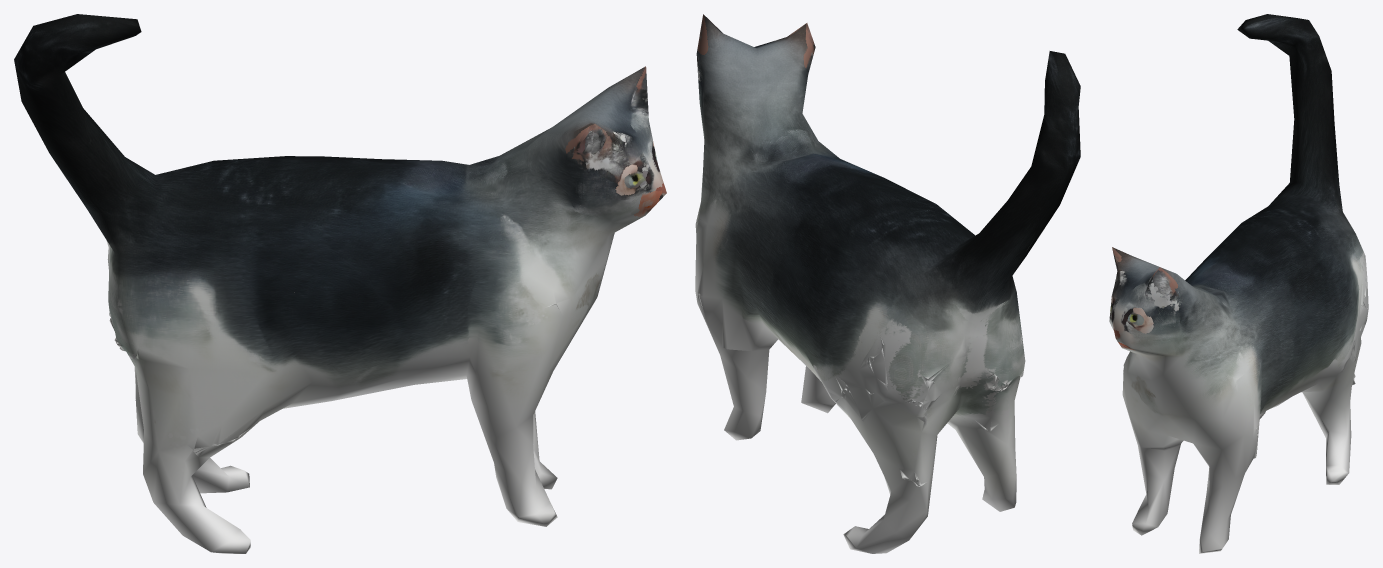
File: cat_black_single_1500.glb
3 views of the same model, side by side, from view 1: azimuth 30°, elevation 25°; view 2: azimuth 150°, elevation 25°; view 3: azimuth 270°, elevation 25° (orthographic). The views are drawn at different scales.
Size of the model in its own units: 0.845 by 0.8527 by 0.4973.
Materials: 1 (1 with a texture image).
